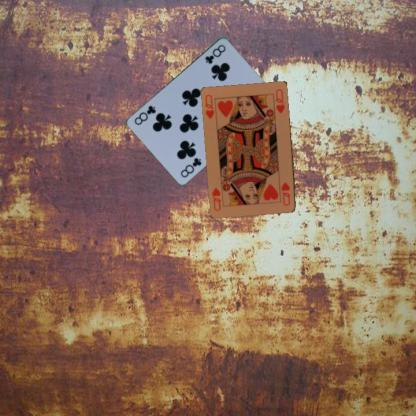8c: (178, 155, 203, 178), (202, 42, 227, 64)
Qh: (278, 179, 292, 207), (202, 92, 216, 120)
